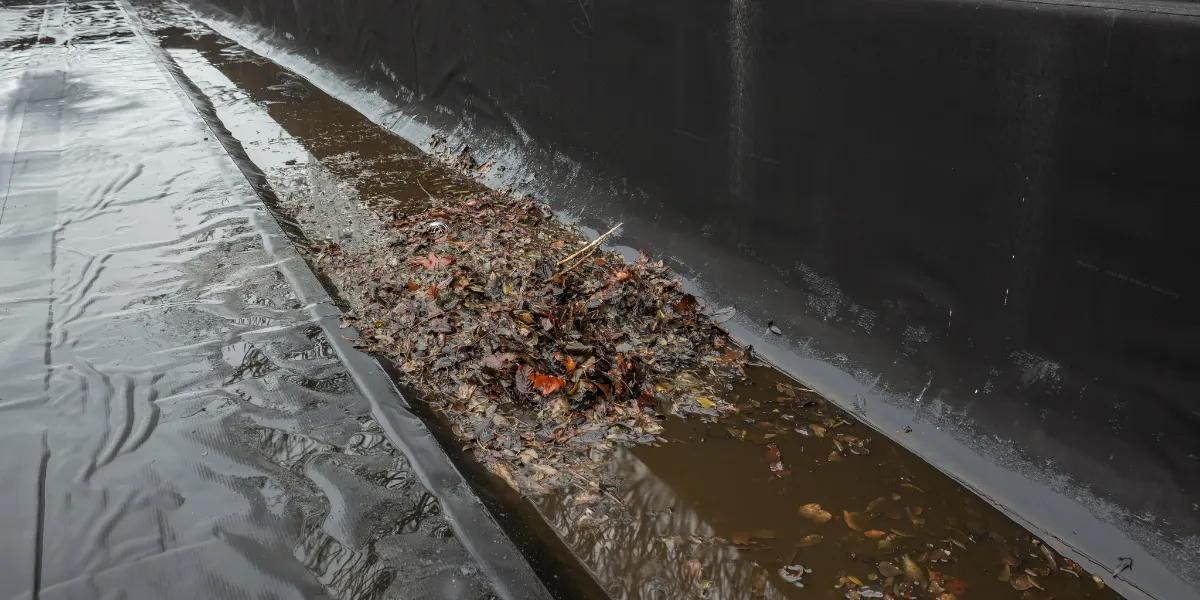Blocked drain: (101, 3, 1200, 600)
